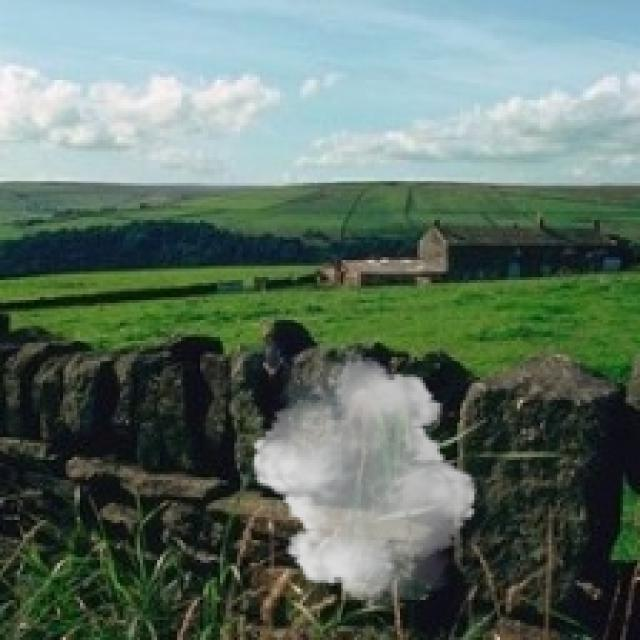smoke: (243, 351, 486, 606)
